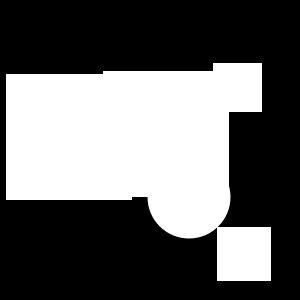circle: (103, 71, 229, 197), (6, 74, 132, 200), (217, 227, 271, 281), (213, 63, 262, 112)
rectangle: (148, 156, 230, 238)
